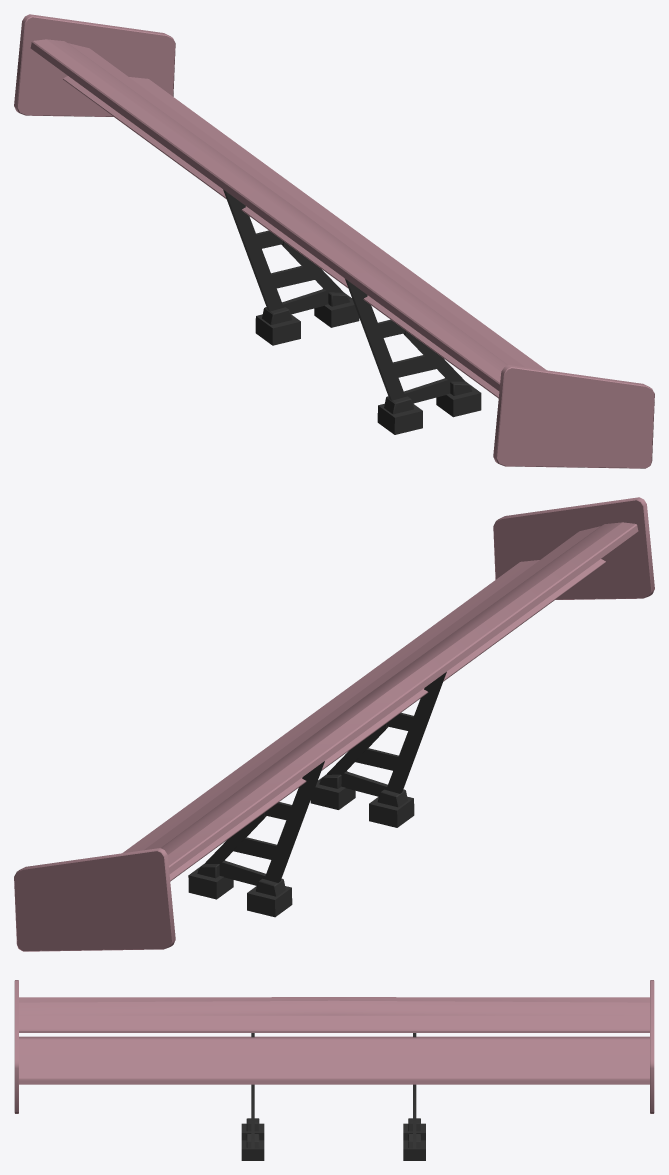
The picture shows the model from 3 angles, top to bottom: view 1: azimuth 30°, elevation 25°; view 2: azimuth 150°, elevation 25°; view 3: azimuth 270°, elevation 25°; orthographic projection. The views are drawn at different scales.
Visible parts, largest first — view 1: sp2; view 2: sp2; view 3: sp2.
Boxes of the visible parts, x1,y1,x2,y2 form: sp2: (14,14,654,468); sp2: (14,497,654,951); sp2: (14,980,654,1160).
Bounding box in the file's own units: 0.2946 × 0.3654 × 1.55.
